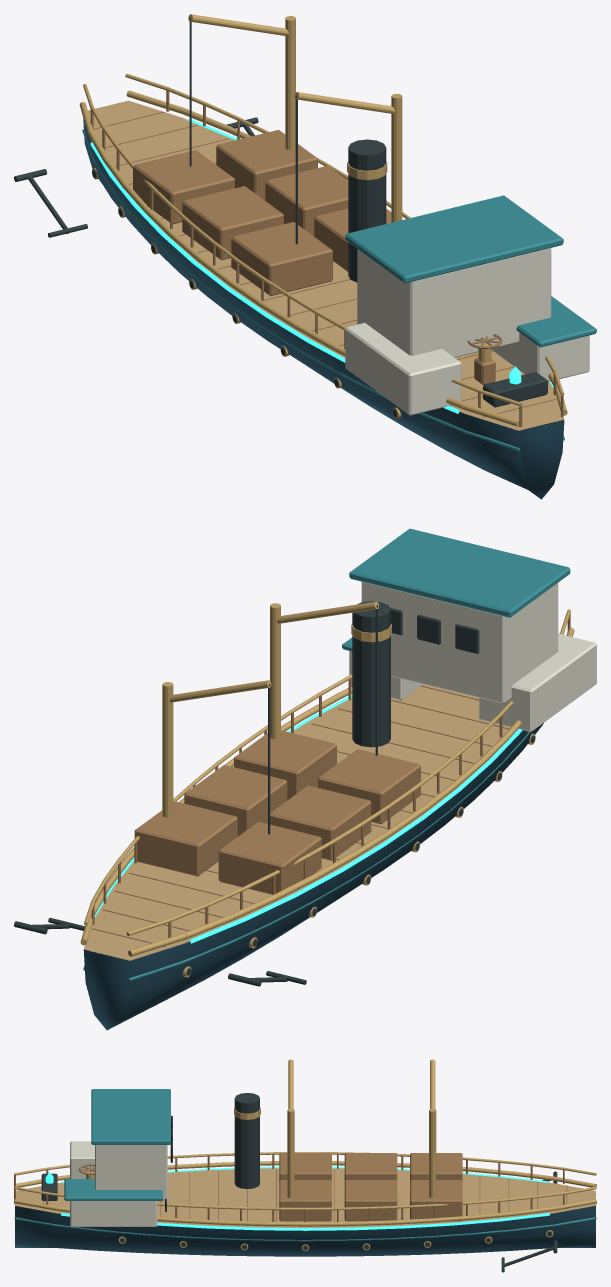
Rendered from premium_steam_freighter.glb.
The picture shows the model from 3 angles, top to bottom: view 1: azimuth 30°, elevation 25°; view 2: azimuth 150°, elevation 25°; view 3: azimuth 270°, elevation 25°; orthographic projection. The views are drawn at different scales.
Parts seen in each view (by area): view 1: premium_steam_freighter; view 2: premium_steam_freighter; view 3: premium_steam_freighter.
Boxes of the visible parts, x1,y1,x2,y2 form: premium_steam_freighter: (14, 14, 596, 499); premium_steam_freighter: (14, 528, 596, 1030); premium_steam_freighter: (14, 1059, 596, 1272).
Bounding box in the file's own units: 5.36 × 5.37 × 16.05.
